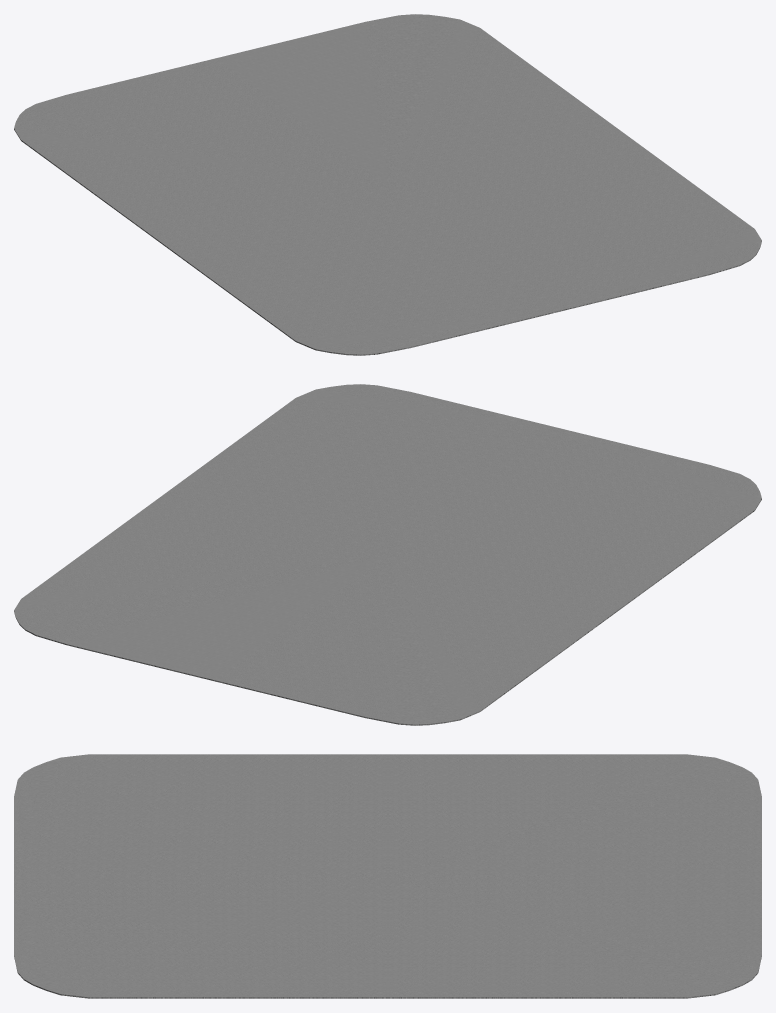
File: sidewalk.glb
3 renders of one model, top to bottom at view 1: azimuth 30°, elevation 25°; view 2: azimuth 150°, elevation 25°; view 3: azimuth 270°, elevation 25°, orthographic. The views are drawn at different scales.
Parts seen in each view (by area): view 1: Plane.003; view 2: Plane.003; view 3: Plane.003.
Part boxes in pixels (x1=…): Plane.003: x1=14, y1=14, x2=761, y2=355; Plane.003: x1=14, y1=384, x2=761, y2=725; Plane.003: x1=14, y1=754, x2=761, y2=998.
Bounding box in the file's own units: 50.38 × 0.1243 × 65.47.
Materials: 1 (1 with a texture image).
